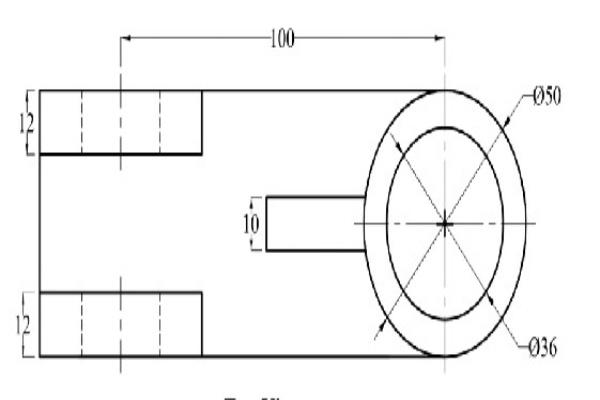dimensions: (529, 76, 564, 111), (527, 331, 563, 365), (268, 23, 299, 50), (236, 207, 263, 236), (15, 108, 38, 137), (12, 310, 36, 336)
